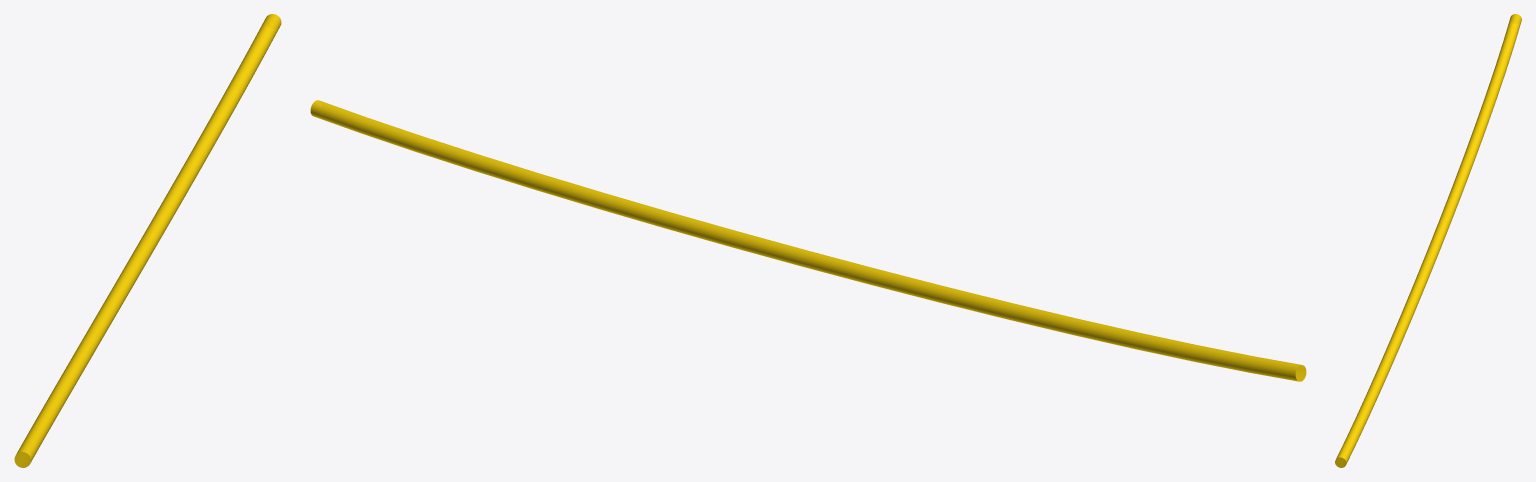
Rendered from Event_421115418_track_94.fbx.
The picture shows the model from 3 angles, left to right: view 1: azimuth 90°, elevation 25°; view 2: azimuth 150°, elevation 25°; view 3: azimuth 270°, elevation 25°; orthographic projection. The views are drawn at different scales.
Parts seen in each view (by area): view 1: Model; view 2: Model; view 3: Model.
Boxes of the visible parts, box(x1,y1,x2,y2) form: Model: box(14, 14, 281, 467); Model: box(310, 100, 1306, 381); Model: box(1335, 14, 1521, 467).
Bounding box in the file's own units: 3.02 × 0.2965 × 0.6351.
